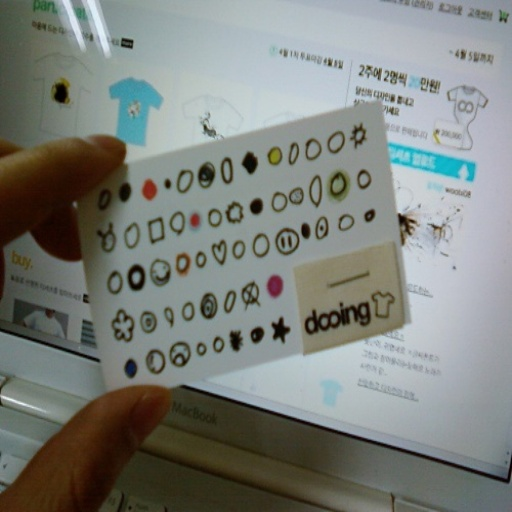hand: (0, 139, 174, 509)
